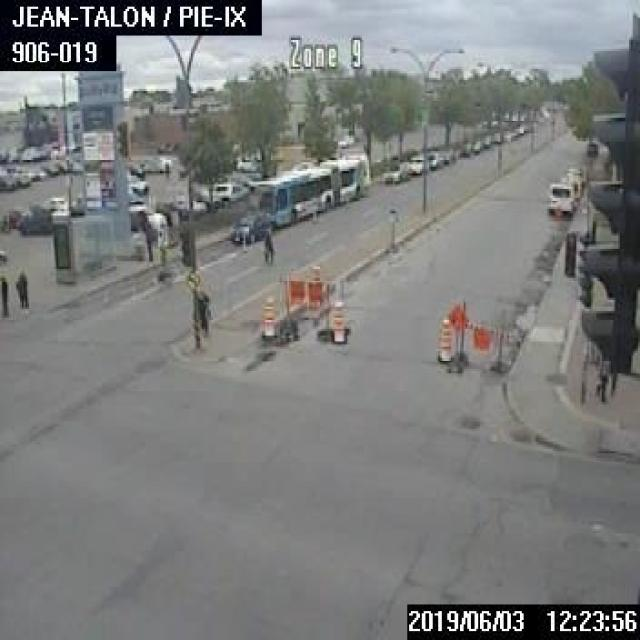bus: (245, 151, 369, 226)
construction: (442, 302, 516, 374), (274, 271, 344, 341), (436, 316, 450, 361), (330, 300, 345, 341), (260, 294, 272, 336)
cyclist: (260, 224, 273, 264)
pedestrian: (196, 284, 211, 336), (13, 270, 28, 311), (140, 216, 153, 262), (0, 272, 7, 316)
vehicle: (14, 199, 68, 234), (230, 213, 272, 242), (127, 202, 164, 228), (546, 181, 573, 216), (202, 182, 241, 205), (165, 192, 204, 214), (380, 160, 408, 182), (558, 170, 580, 196), (234, 156, 261, 171), (38, 196, 65, 208), (438, 146, 455, 162), (407, 154, 421, 172), (0, 172, 15, 188), (12, 170, 27, 185), (40, 160, 56, 174), (425, 151, 439, 167), (27, 167, 43, 179), (56, 158, 68, 171), (585, 140, 596, 154), (458, 142, 468, 155), (0, 248, 5, 264)
